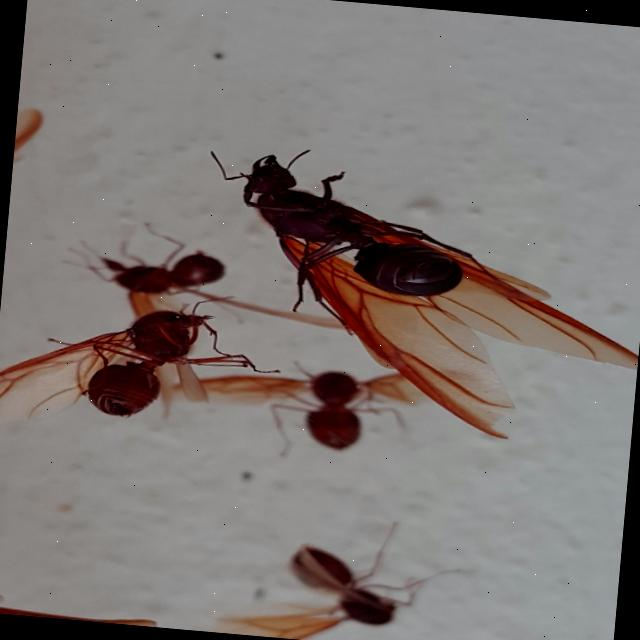Dead-Female-Alate: (185, 139, 640, 450)
Dead-Male-Alate: (0, 275, 286, 463), (54, 215, 366, 374), (140, 500, 464, 640), (157, 345, 485, 475)
